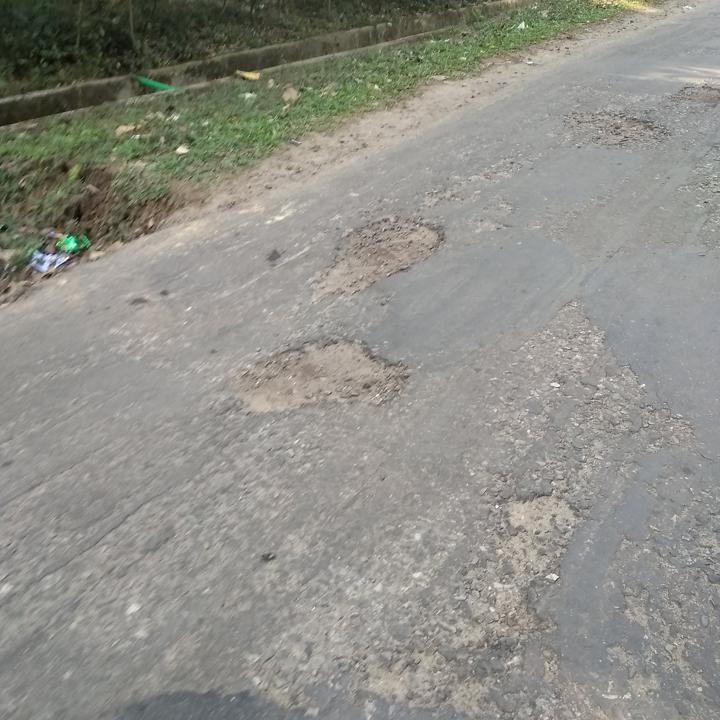pothole: (232, 331, 411, 421), (314, 213, 451, 300), (501, 486, 586, 546), (572, 106, 665, 151), (668, 79, 720, 111)
